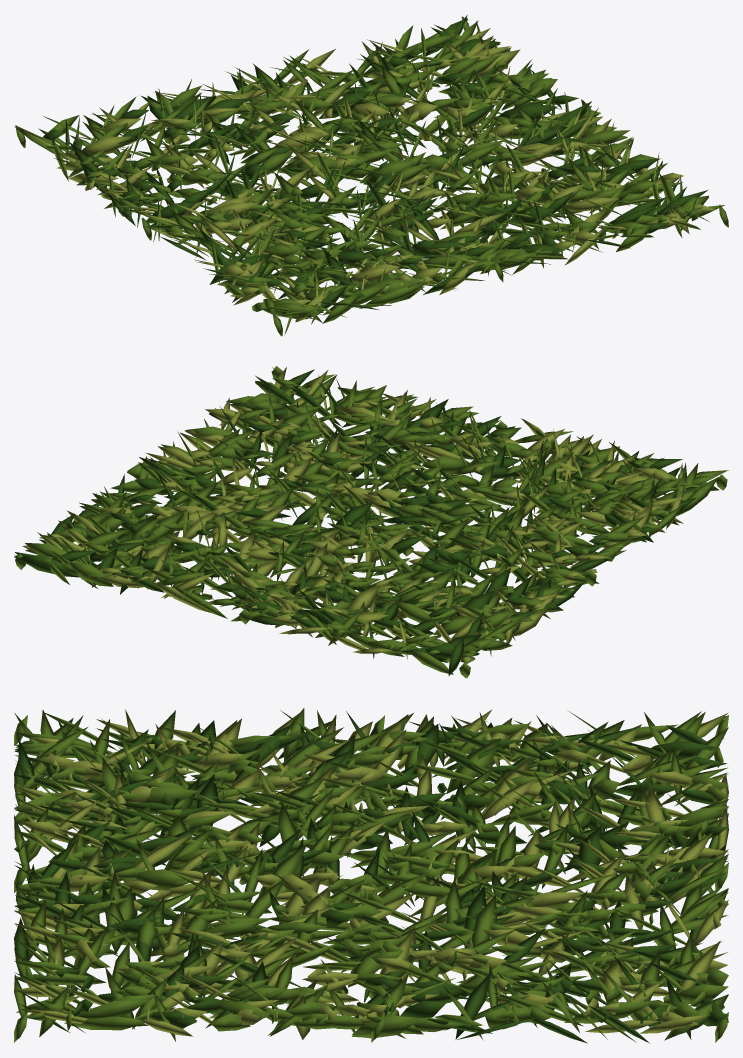
Rendered from MV_Grass_Lawn_2x2m.fbx.
3 renders of one model, top to bottom at view 1: azimuth 30°, elevation 25°; view 2: azimuth 150°, elevation 25°; view 3: azimuth 270°, elevation 25°, orthographic. The views are drawn at different scales.
Parts seen in each view (by area): view 1: LOD0_Mesh, LOD1_Mesh, LOD2_Mesh; view 2: LOD0_Mesh, LOD1_Mesh, LOD2_Mesh; view 3: LOD0_Mesh, LOD1_Mesh, LOD2_Mesh.
Part boxes in pixels (x1,y1,x2,y2): LOD0_Mesh: (15, 15, 728, 335); LOD1_Mesh: (15, 16, 728, 336); LOD2_Mesh: (16, 17, 727, 335); LOD0_Mesh: (14, 366, 726, 677); LOD1_Mesh: (14, 366, 727, 677); LOD2_Mesh: (14, 366, 728, 677); LOD0_Mesh: (14, 708, 728, 1043); LOD1_Mesh: (14, 711, 728, 1043); LOD2_Mesh: (14, 710, 728, 1042).
Size of the model in its own units: 2 by 0.1079 by 2.
